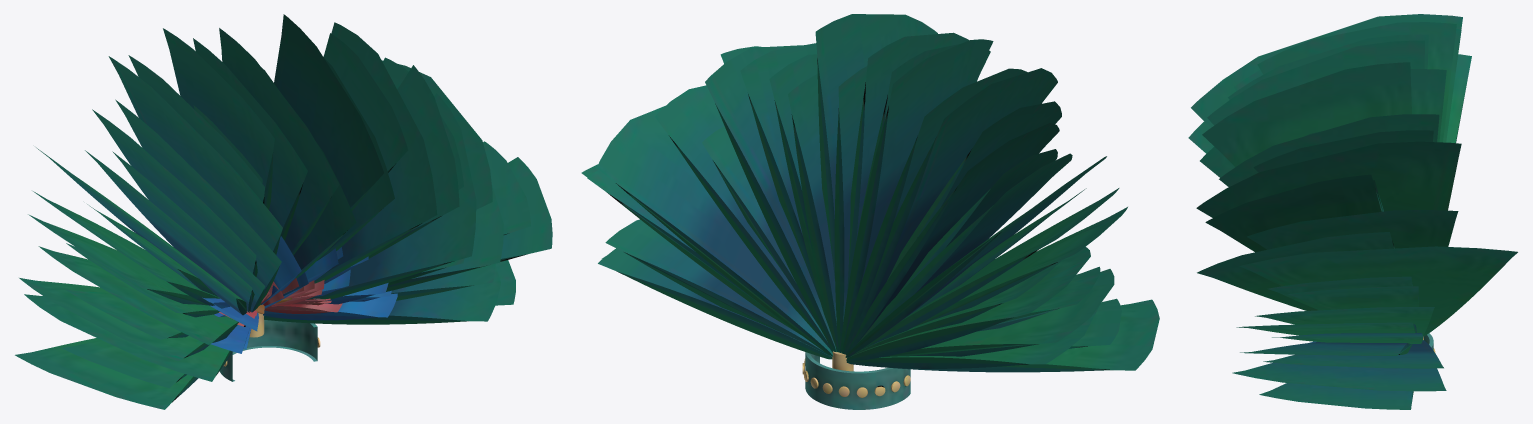
The model's file is feather_headdress.glb.
3 views of the same model, side by side, from view 1: azimuth 30°, elevation 25°; view 2: azimuth 150°, elevation 25°; view 3: azimuth 270°, elevation 25° (orthographic). The views are drawn at different scales.
Visible parts, largest first — view 1: feather_headdress; view 2: feather_headdress; view 3: feather_headdress.
Part boxes in pixels (left/top/right/bottom): feather_headdress: left=15, top=14, right=552, bottom=409; feather_headdress: left=581, top=14, right=1159, bottom=409; feather_headdress: left=1188, top=14, right=1517, bottom=409.
Size of the model in its own units: 1.17 by 0.735 by 0.6763.
1 material, 1 textured.
